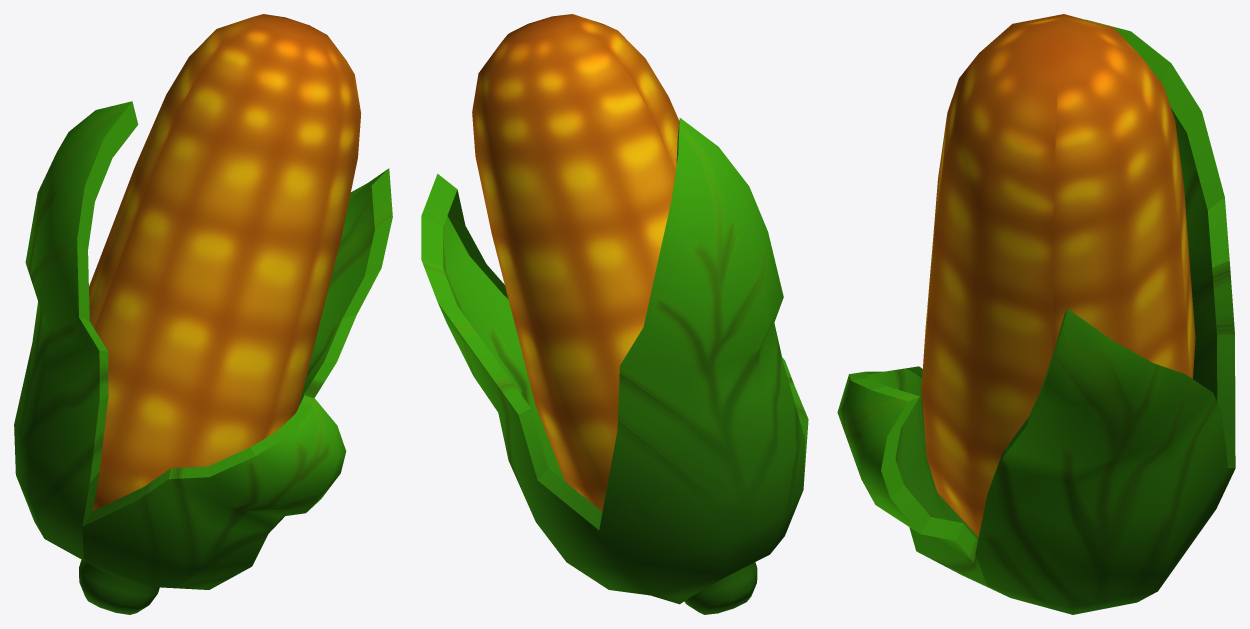
File: mazorca.fbx
3 views of the same model, side by side, from view 1: azimuth 30°, elevation 25°; view 2: azimuth 150°, elevation 25°; view 3: azimuth 270°, elevation 25° (orthographic). The views are drawn at different scales.
Parts seen in each view (by area): view 1: corn2; view 2: corn2; view 3: corn2.
Part boxes in pixels (x1,y1,x2,y2): corn2: (14,14,392,614); corn2: (421,14,808,614); corn2: (837,14,1235,614).
Bounding box in the file's own units: 8.73 × 13.02 × 7.19.
